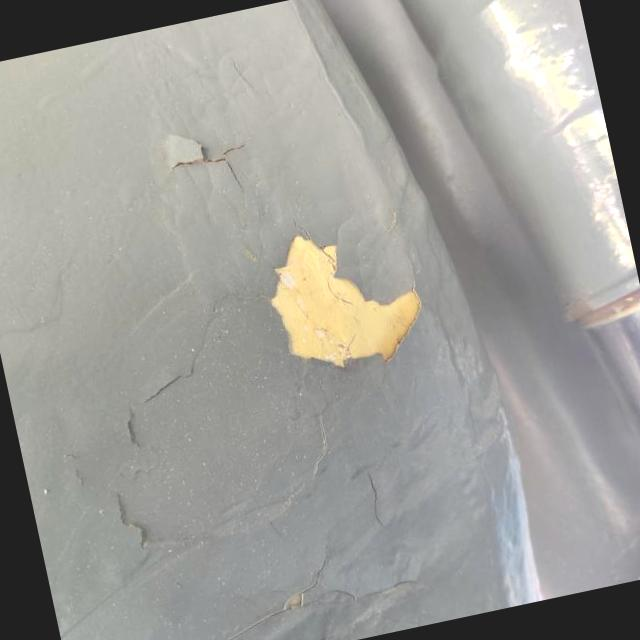paint-off: (230, 188, 455, 424), (142, 99, 270, 220)
